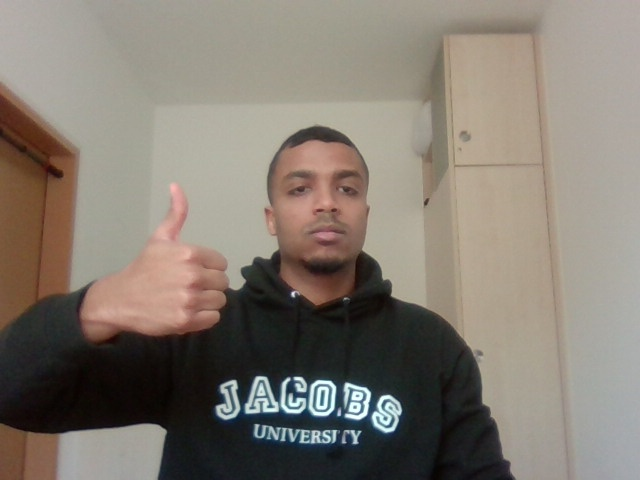perfect: (94, 168, 244, 371)
